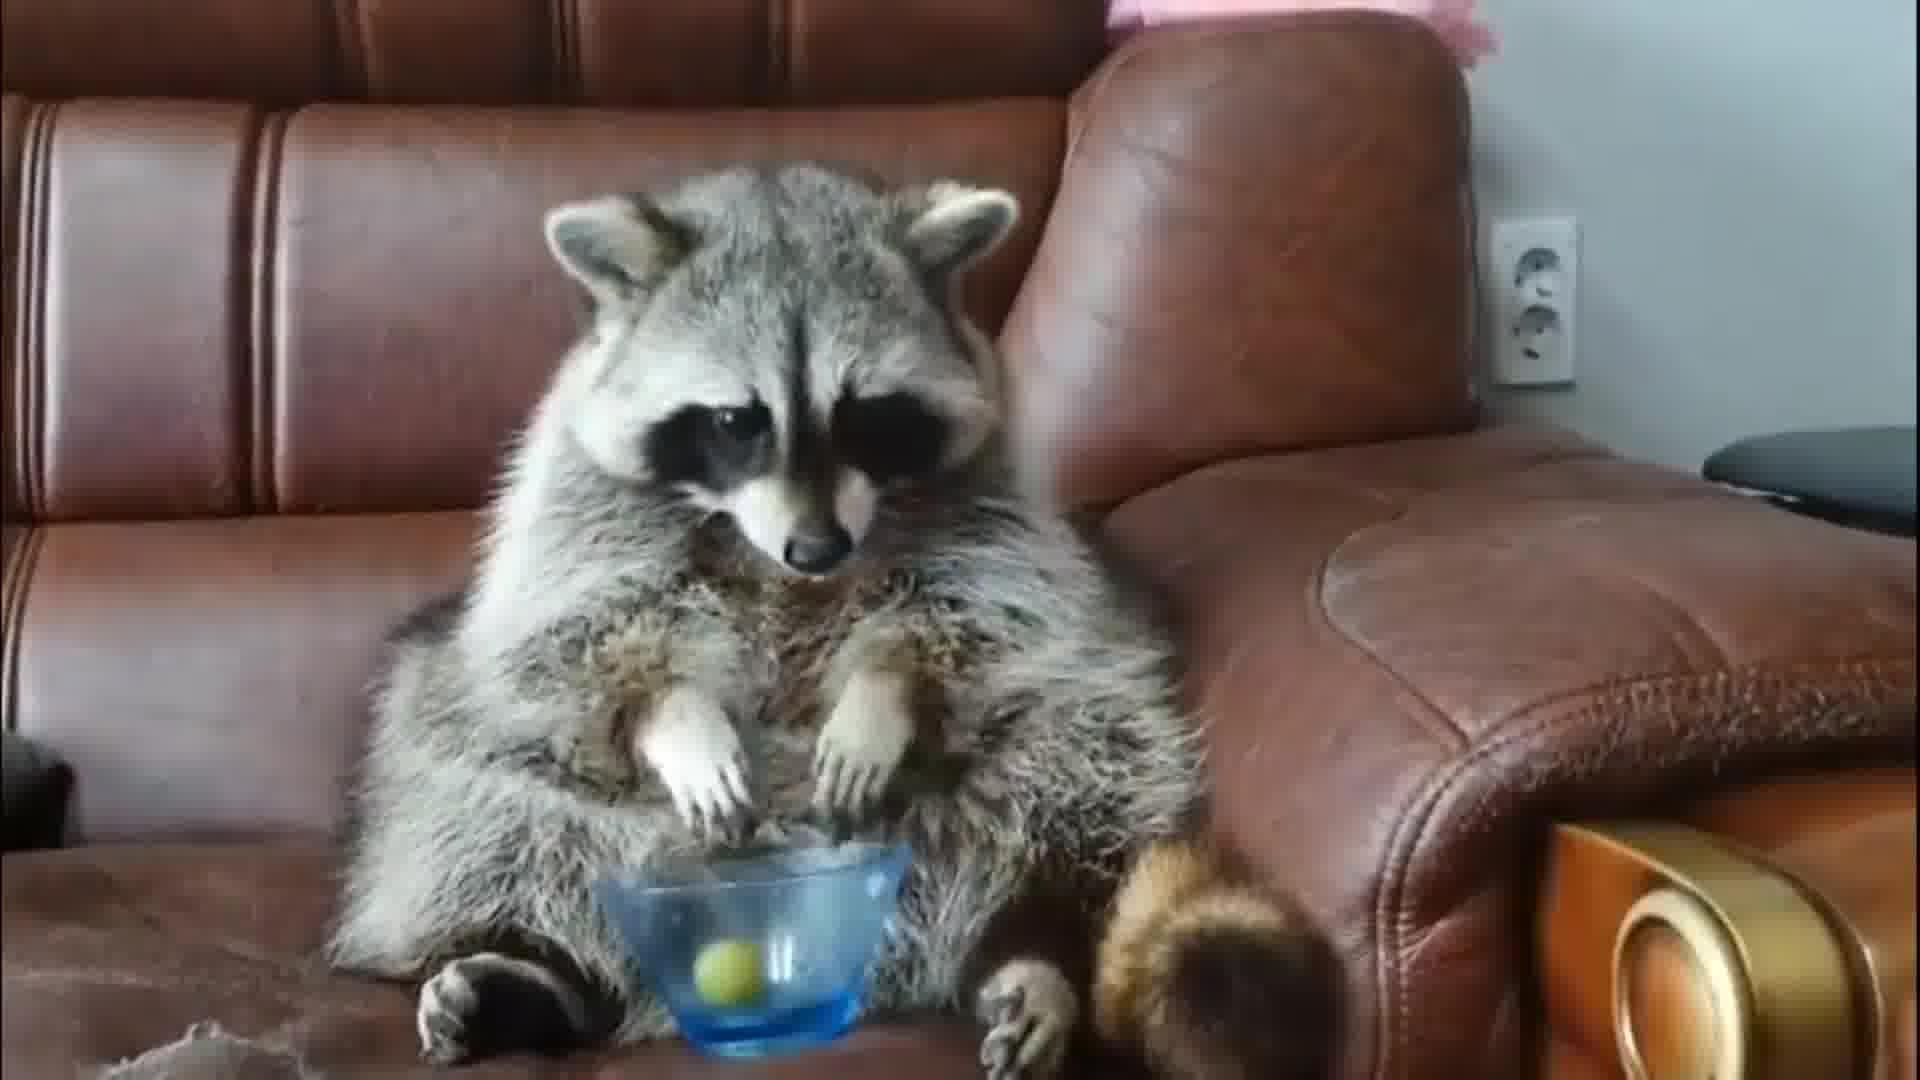raccoon: (309, 152, 1346, 1080)
